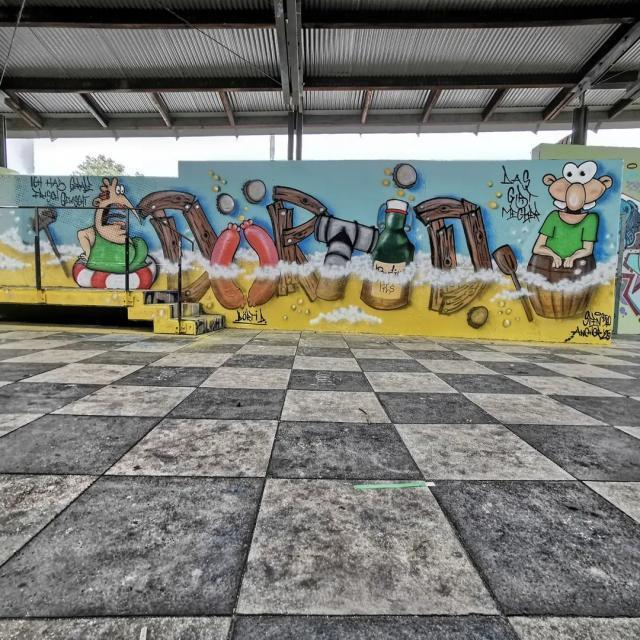-: (528, 152, 621, 320), (317, 198, 417, 314), (68, 175, 165, 288), (411, 191, 494, 322), (140, 177, 214, 308), (266, 180, 322, 306), (217, 219, 287, 306), (495, 165, 543, 228), (26, 172, 94, 211), (570, 304, 616, 345), (234, 306, 268, 328)
